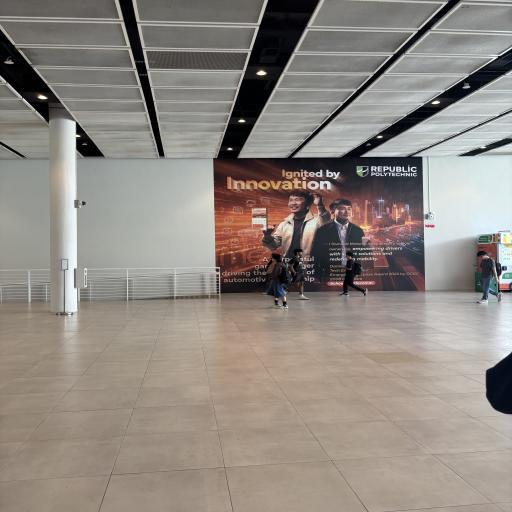person_left: (459, 246, 512, 305), (341, 254, 369, 300), (268, 254, 290, 310)
person_right: (286, 248, 313, 300)
